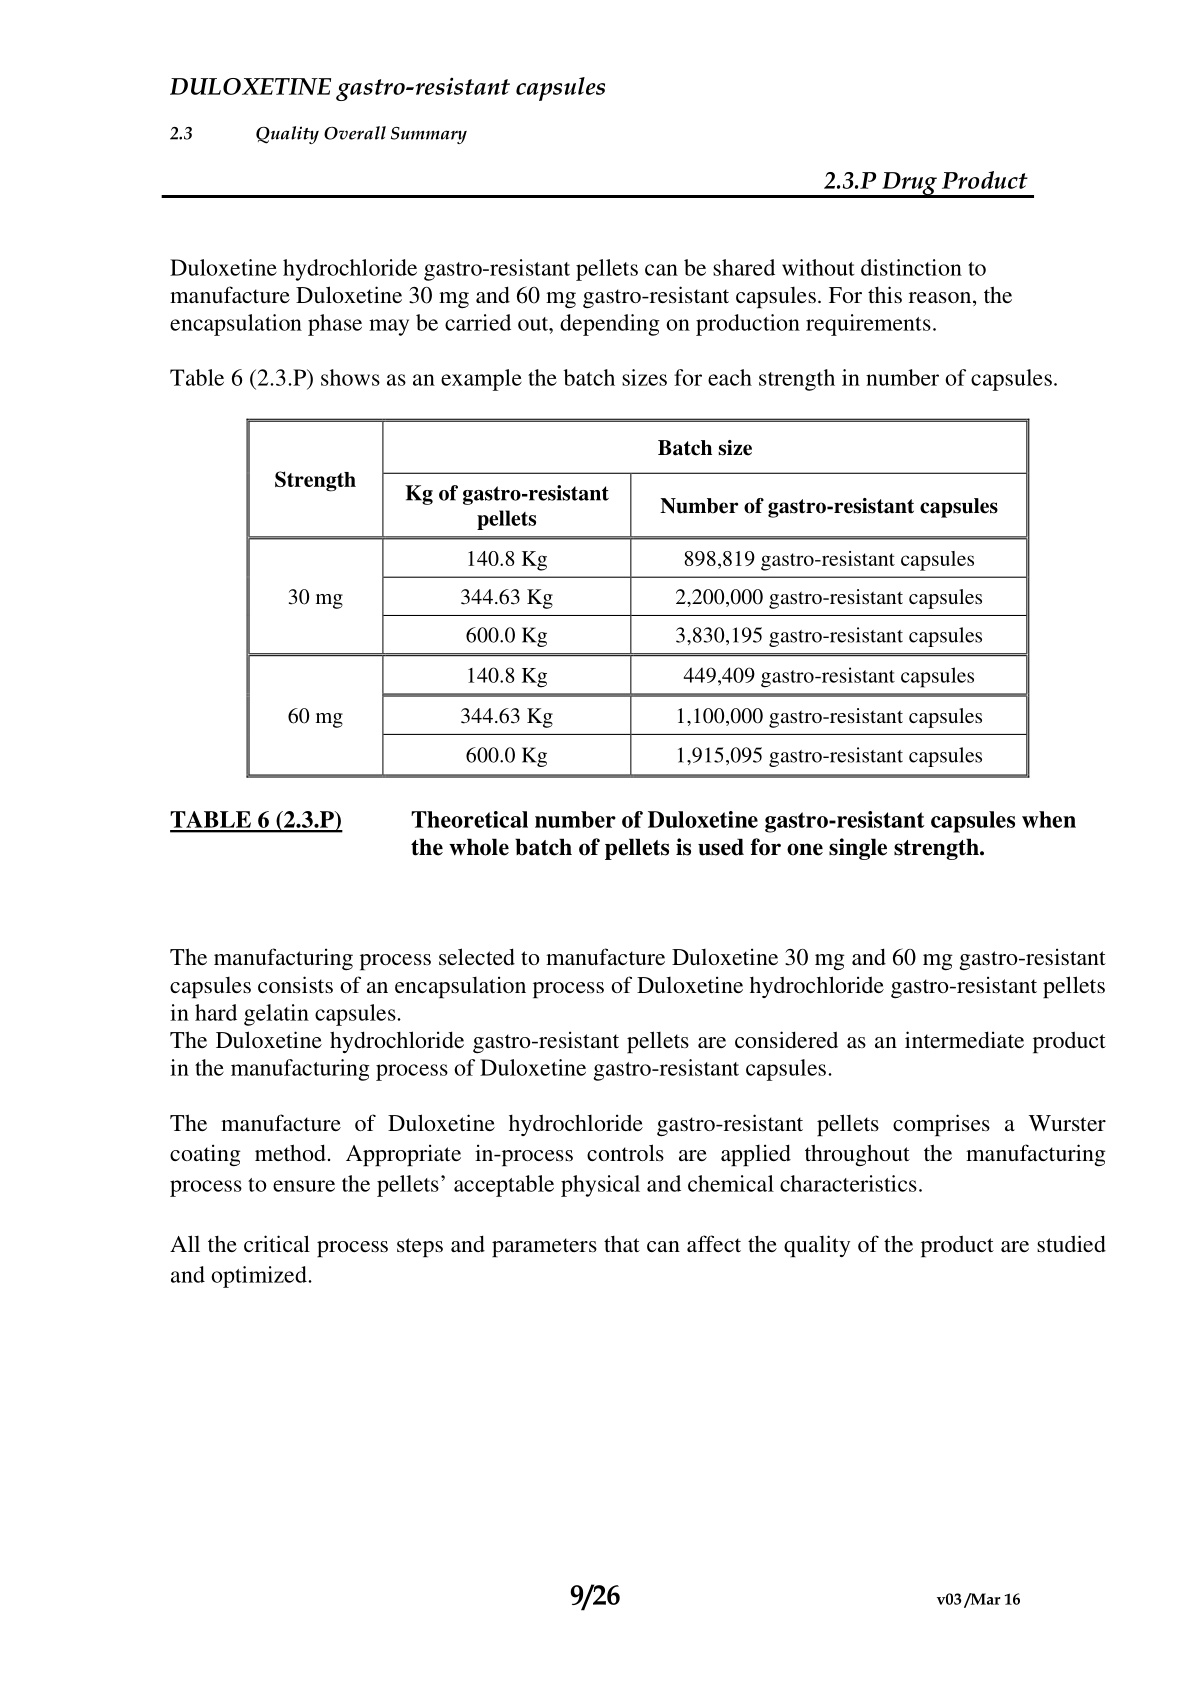merged_cells: (244, 416, 1030, 778)
